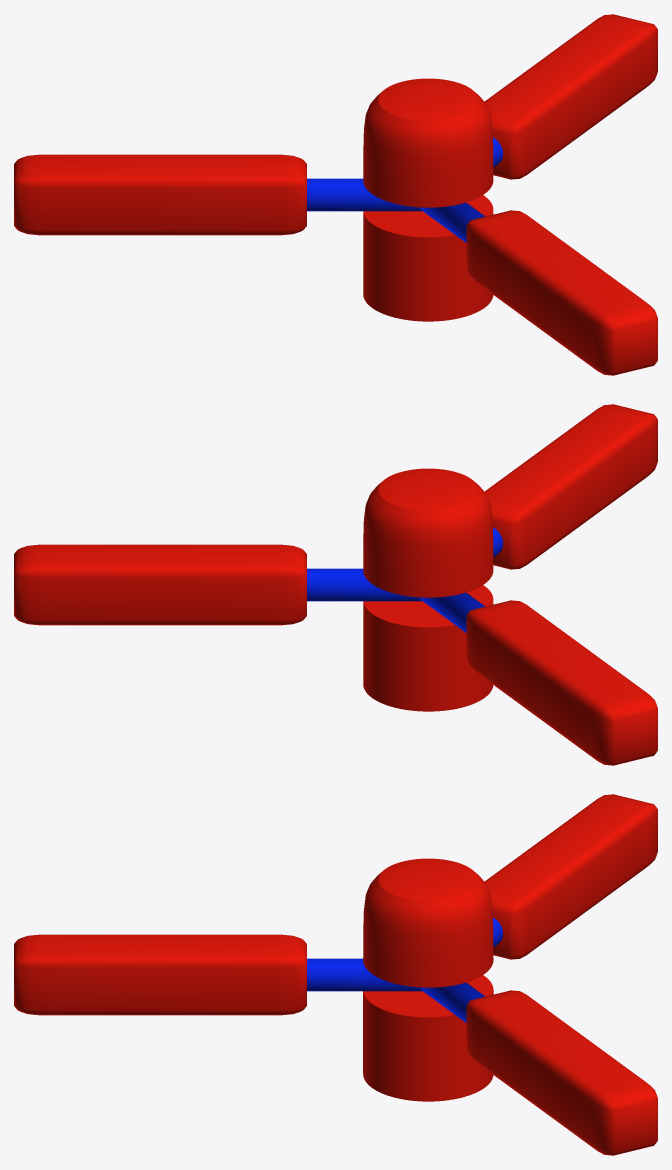
File: Rot.fbx
The picture shows the model from 3 angles, top to bottom: view 1: azimuth 30°, elevation 25°; view 2: azimuth 150°, elevation 25°; view 3: azimuth 270°, elevation 25°; orthographic projection.
Visible parts, largest first — view 1: Rotating Obstacle.001, Rotation Obstacle Base, Rotating Obstacle.003, Rotating Obstacle.002; view 2: Rotating Obstacle.002, Rotation Obstacle Base, Rotating Obstacle.001, Rotating Obstacle.003; view 3: Rotating Obstacle.003, Rotation Obstacle Base, Rotating Obstacle.002, Rotating Obstacle.001.
Part boxes in pixels (x1,y1,x2,y2): Rotating Obstacle.001: (14,154,422,235); Rotation Obstacle Base: (363,78,493,321); Rotating Obstacle.003: (420,202,657,375); Rotating Obstacle.002: (484,14,657,179); Rotating Obstacle.002: (14,544,422,625); Rotation Obstacle Base: (363,468,493,711); Rotating Obstacle.001: (420,592,657,765); Rotating Obstacle.003: (484,404,657,569); Rotating Obstacle.003: (14,934,422,1015); Rotation Obstacle Base: (363,858,493,1101); Rotating Obstacle.002: (420,982,657,1155); Rotating Obstacle.001: (484,794,657,959).
Size of the model in its own units: 1356 by 400 by 1178.
